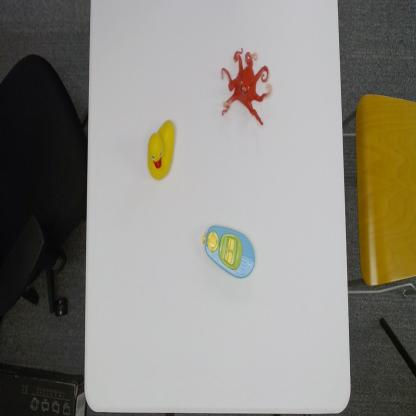Boat: (201, 222, 257, 281)
Duck: (146, 117, 177, 181)
Octopus: (219, 44, 272, 127)
